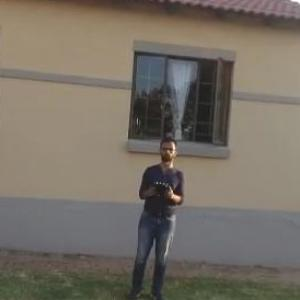follow: (125, 132, 186, 299)
